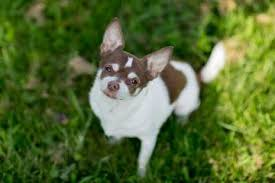chihuahua: (80, 12, 232, 176)
